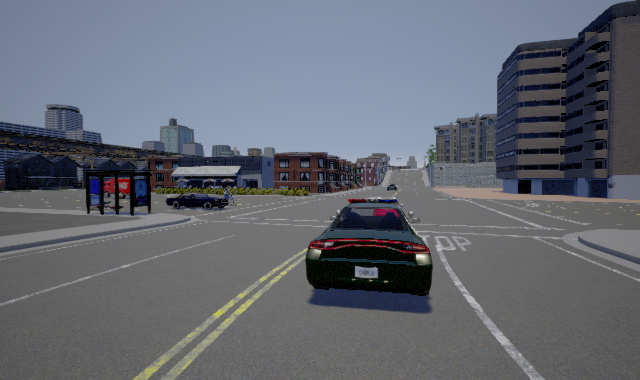bike: (221, 186, 238, 205)
vehicle: (305, 197, 433, 296), (165, 193, 235, 210), (102, 179, 133, 198), (387, 183, 397, 191)
